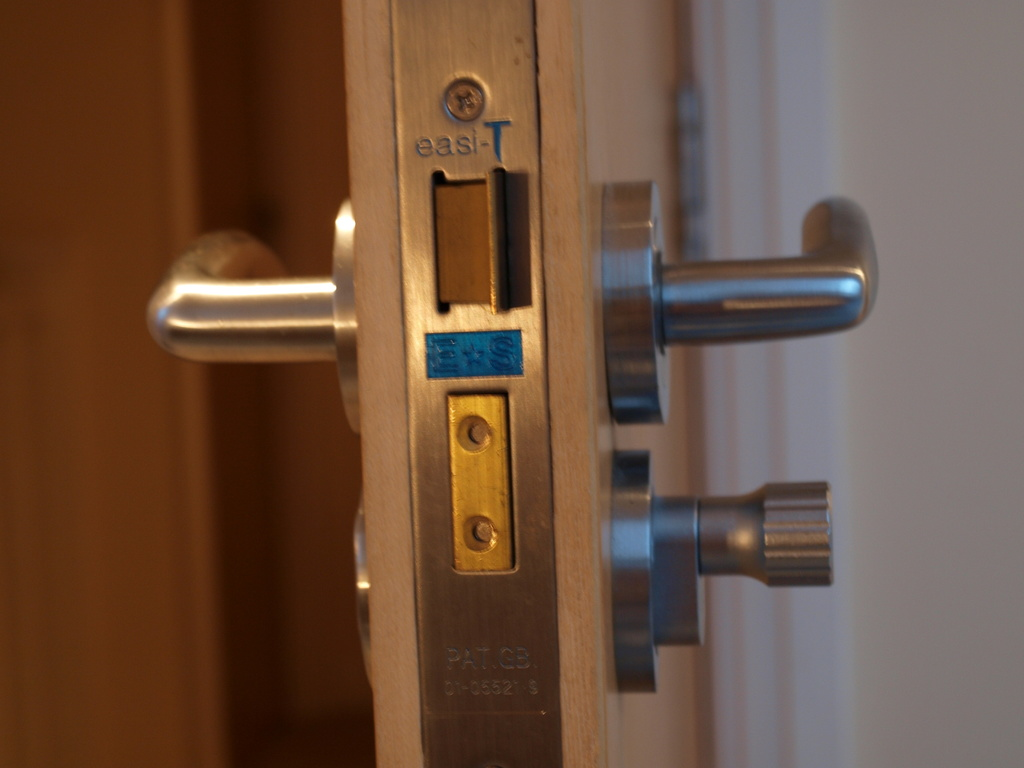door: (354, 27, 660, 762)
handle: (636, 204, 882, 358), (150, 217, 346, 381)
